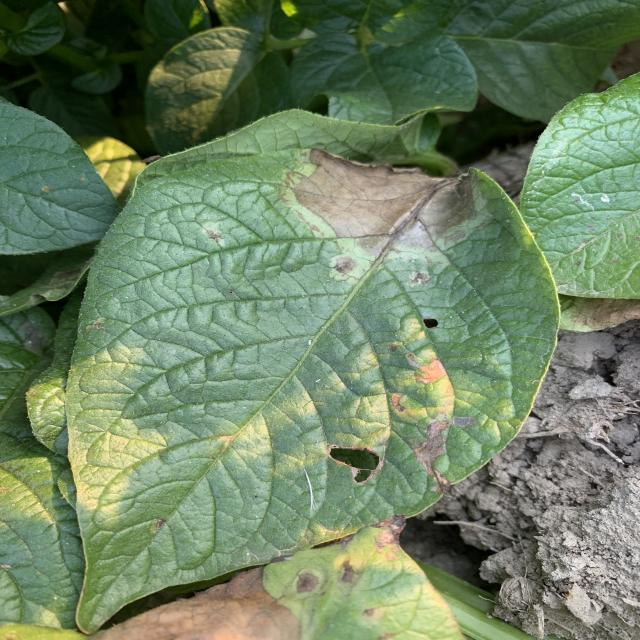lateblight: (292, 150, 517, 280), (413, 420, 450, 491), (405, 352, 448, 384), (390, 394, 402, 406)
